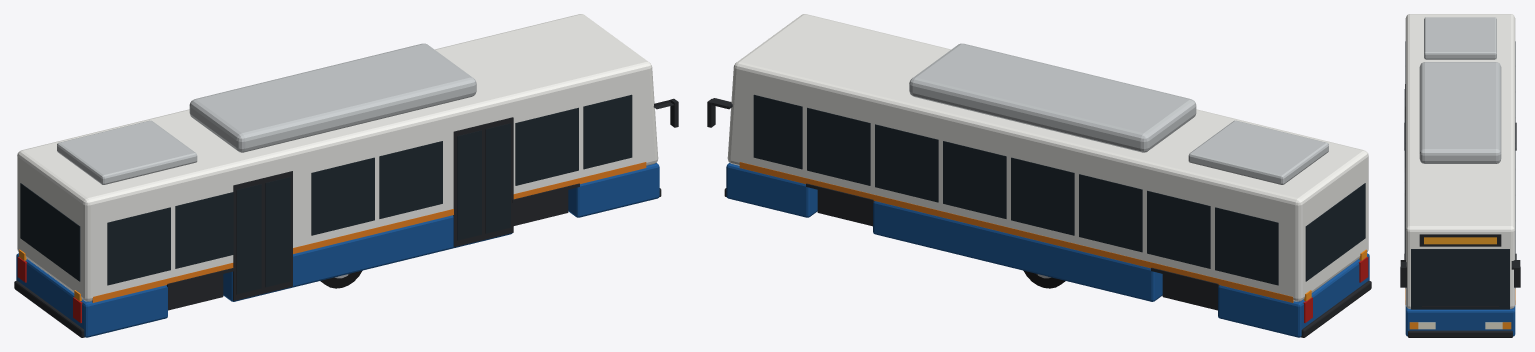
File: vehicles.glb
3 views of the same model, side by side, from view 1: azimuth 30°, elevation 25°; view 2: azimuth 150°, elevation 25°; view 3: azimuth 270°, elevation 25° (orthographic). The views are drawn at different scales.
Visible parts, largest first — view 1: Bus; view 2: Bus; view 3: Bus.
Boxes of the visible parts, x1,y1,x2,y2 form: Bus: (14,14,678,337); Bus: (707,14,1371,337); Bus: (1400,14,1520,337).
Size of the model in its own units: 12.36 by 3.94 by 2.81.
